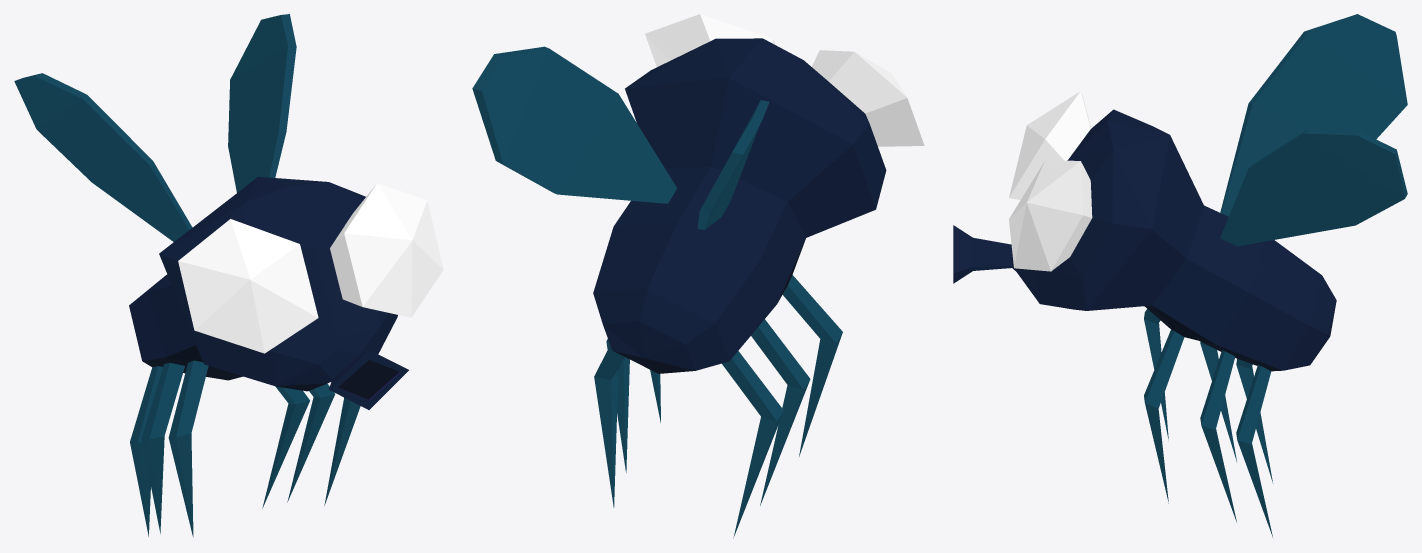
The model's file is firefly.glb.
3 renders of one model, left to right at view 1: azimuth 30°, elevation 25°; view 2: azimuth 150°, elevation 25°; view 3: azimuth 270°, elevation 25°, orthographic. The views are drawn at different scales.
Parts seen in each view (by area): view 1: Object_115; view 2: Object_115; view 3: Object_115.
Boxes of the visible parts, x1,y1,x2,y2 form: Object_115: (14,14,443,537); Object_115: (472,14,924,538); Object_115: (953,14,1407,537).
Size of the model in its own units: 0.3203 by 0.532 by 0.5008.
1 material, 1 textured.
